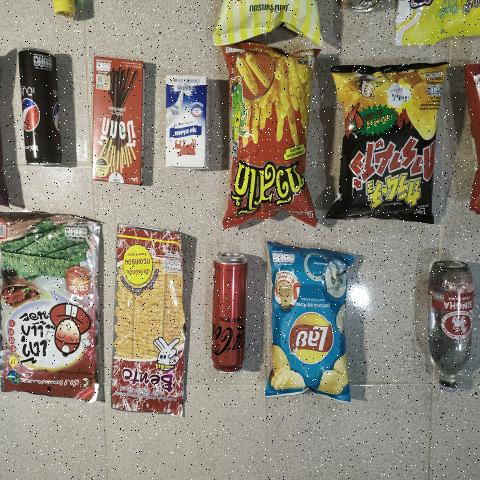bento_red: (112, 227, 184, 415)
coke_red: (211, 248, 245, 374)
karamujo: (338, 77, 434, 218)
lay_blue: (271, 262, 348, 395)
pepsi_black: (21, 50, 64, 176)
pokki: (92, 50, 144, 186)
singha_soda: (430, 257, 470, 403)
taokaenoi: (0, 215, 96, 393)
thai_denmark: (162, 75, 212, 172)
twisco: (233, 51, 309, 216)
